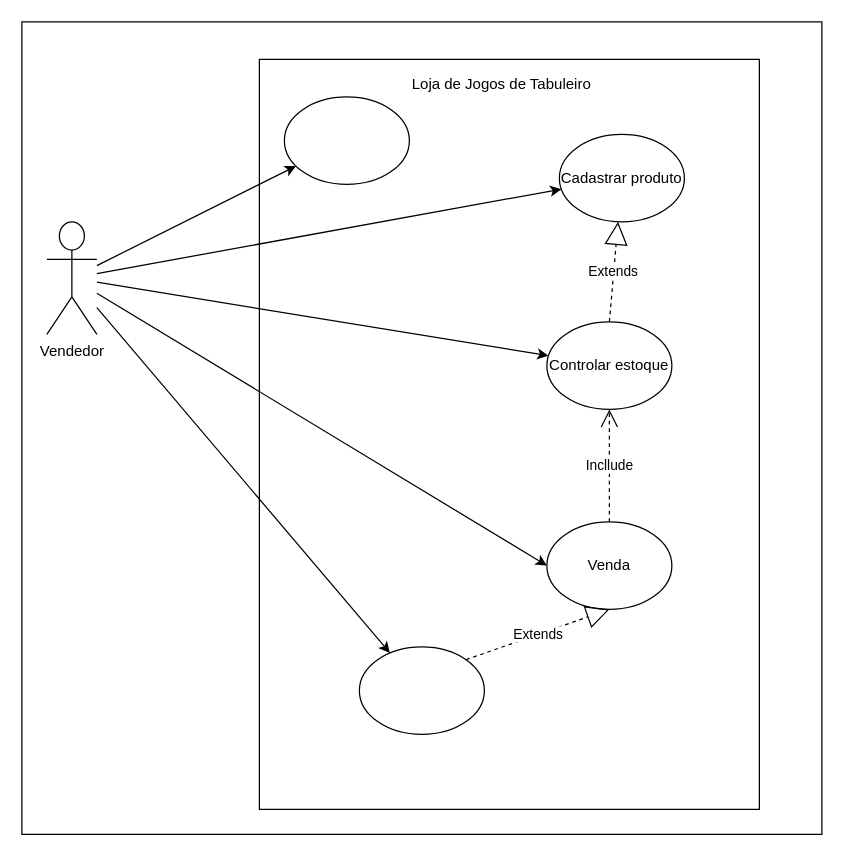
The diagram is 844 pixels wide and 856 high, and some of its shapes have lost their labels. Each missing label, with the centre of its shape:
"Cadastrar cliente" belongs at point 346,140.
"Geração de relatório" belongs at point 421,690.
